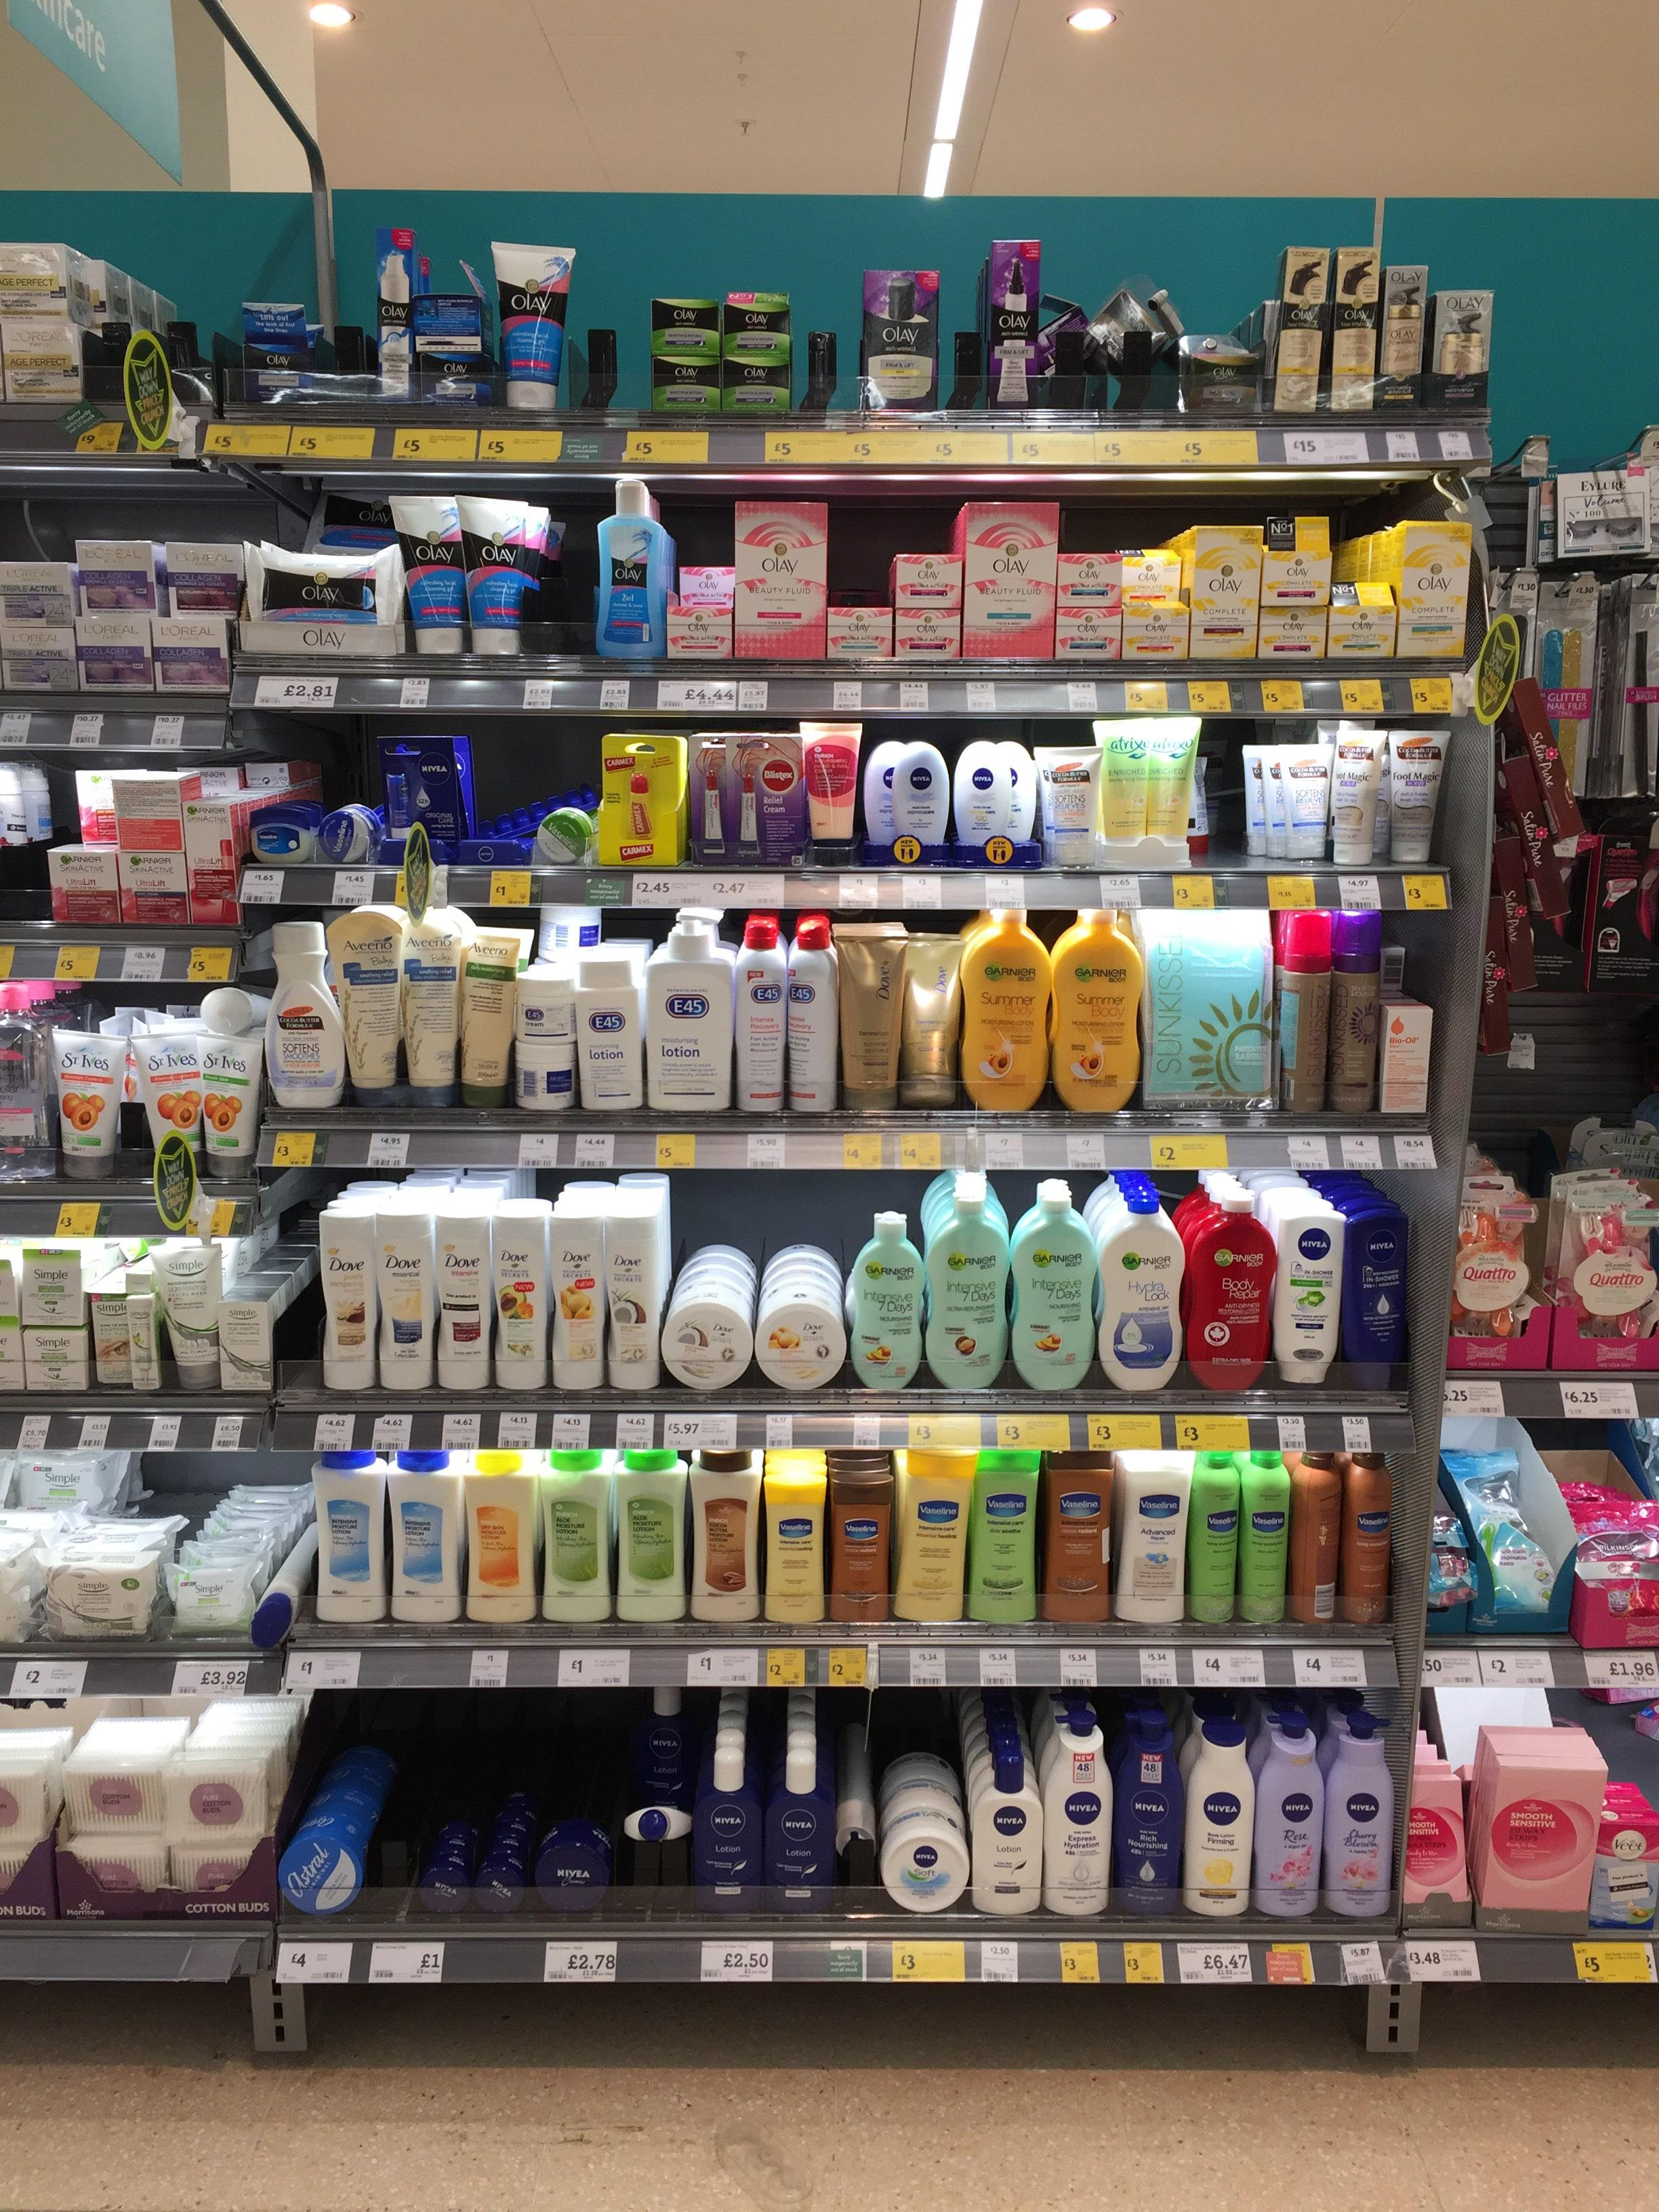misalignment: (1089, 273, 1187, 385), (131, 1042, 207, 1177), (904, 934, 957, 1106), (1290, 1454, 1338, 1625), (415, 263, 495, 362), (260, 1507, 315, 1637), (835, 1721, 878, 1879), (295, 493, 392, 556), (620, 1789, 695, 1855), (1032, 300, 1086, 387), (1178, 752, 1220, 857), (193, 984, 275, 1036)
